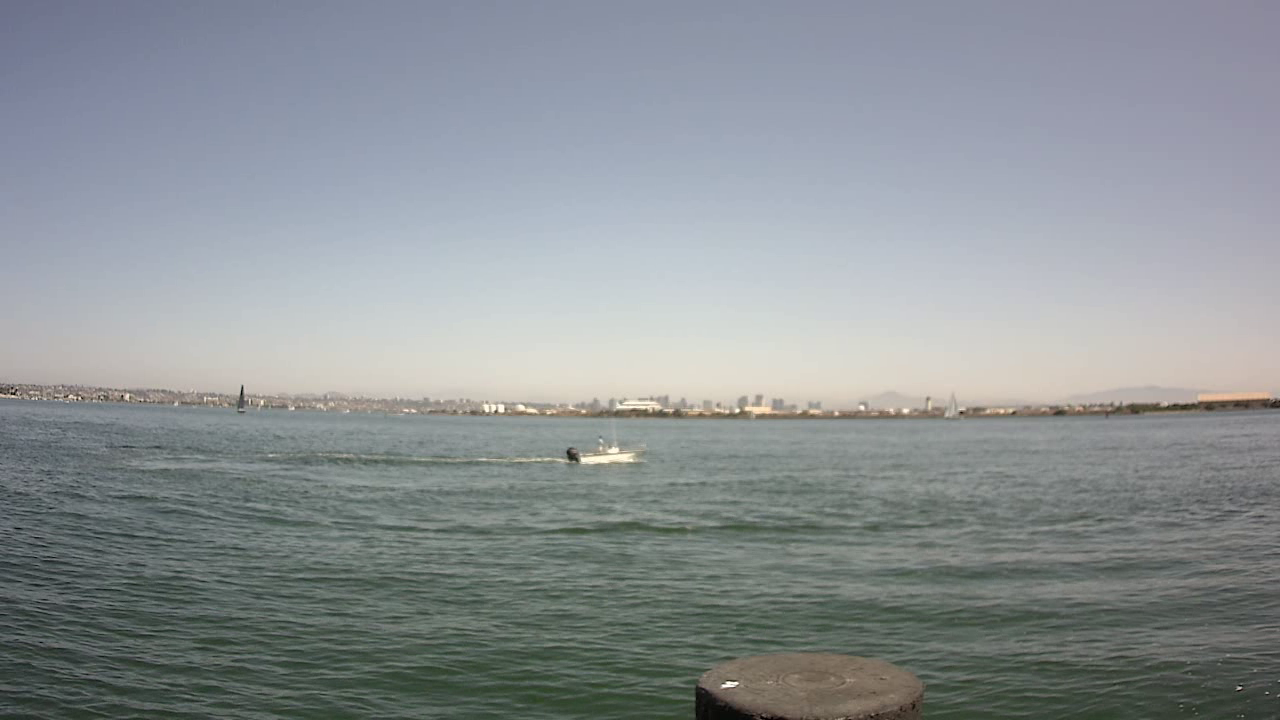target: (560, 422, 655, 474)
